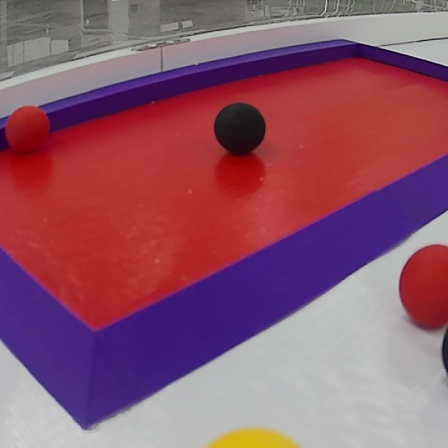black: (208, 102, 270, 162)
red: (395, 239, 448, 331), (0, 107, 55, 156)
red_aim: (4, 39, 448, 429)
